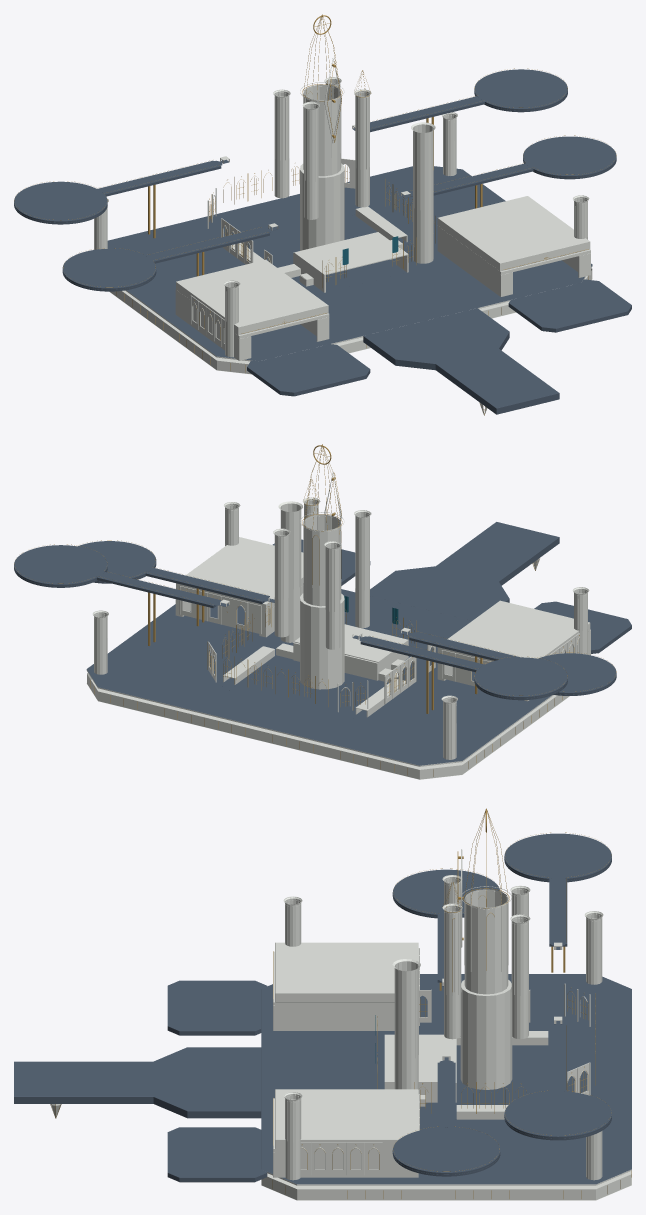
File: Spaceport-00.glb
3 renders of one model, top to bottom at view 1: azimuth 30°, elevation 25°; view 2: azimuth 150°, elevation 25°; view 3: azimuth 270°, elevation 25°, orthographic. The views are drawn at different scales.
Parts seen in each view (by area): view 1: NSP01.Native.0.2.Deck, NSP01.Native.0.1.Ivory, NSP01.Native.0.0.Gold; view 2: NSP01.Native.0.2.Deck, NSP01.Native.0.1.Ivory, NSP01.Native.0.0.Gold; view 3: NSP01.Native.0.2.Deck, NSP01.Native.0.1.Ivory, NSP01.Native.0.0.Gold.
Boxes of the visible parts, x1,y1,x2,y2 form: NSP01.Native.0.2.Deck: (14, 69, 631, 414); NSP01.Native.0.1.Ivory: (94, 58, 592, 414); NSP01.Native.0.0.Gold: (14, 14, 616, 415); NSP01.Native.0.2.Deck: (14, 522, 631, 765); NSP01.Native.0.1.Ivory: (86, 472, 590, 779); NSP01.Native.0.0.Gold: (14, 444, 616, 776); NSP01.Native.0.2.Deck: (14, 833, 631, 1184); NSP01.Native.0.1.Ivory: (50, 849, 631, 1200); NSP01.Native.0.0.Gold: (52, 808, 631, 1198).
Size of the model in its own units: 720 by 328 by 620.
